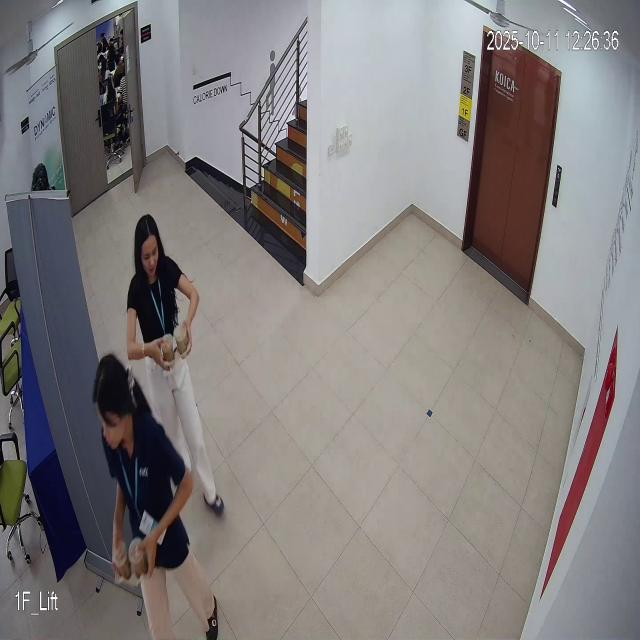face: (132, 208, 166, 281)
